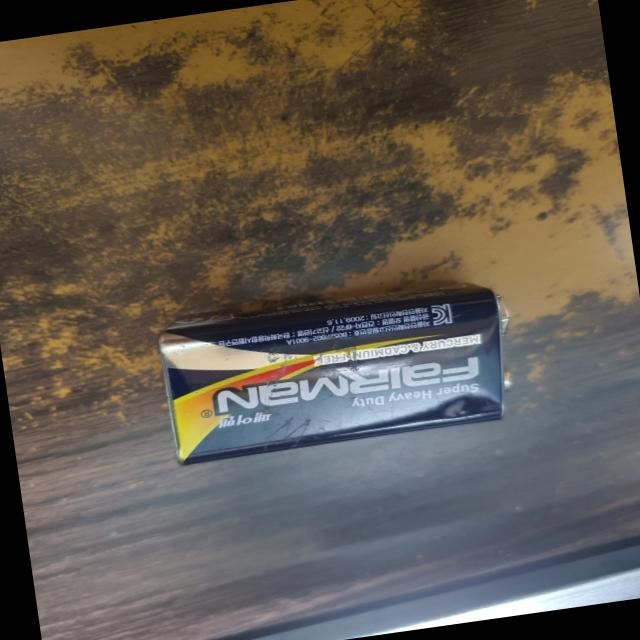battery-etc-etc: (145, 273, 534, 477)
